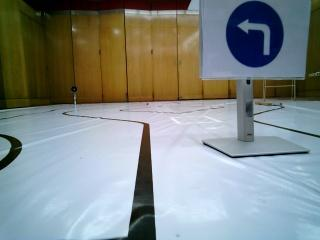left: (211, 0, 302, 76)
